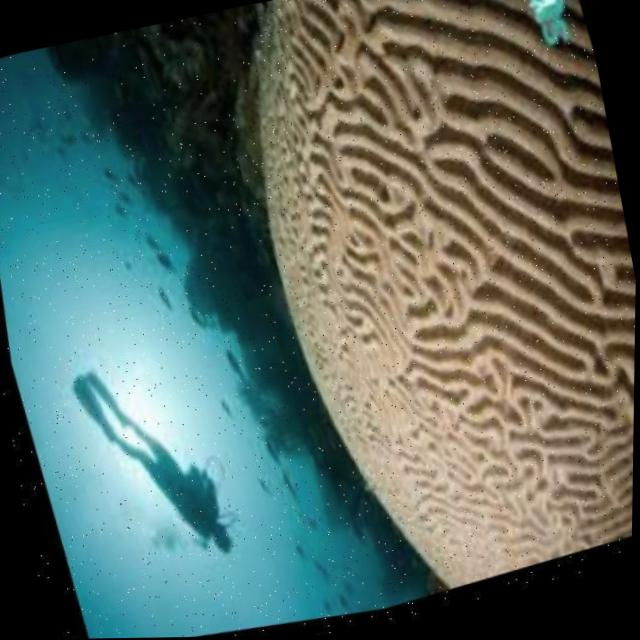Healthy Coral: (169, 0, 640, 631)
